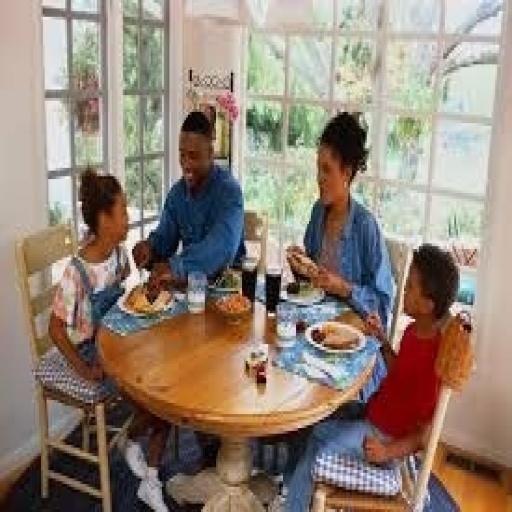eating: (43, 98, 471, 506)
